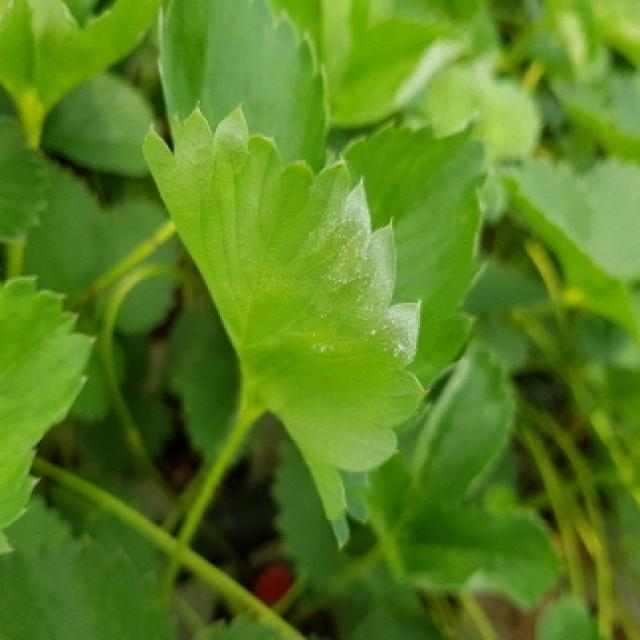Powdery Mildew Leaf: (142, 103, 433, 552)
